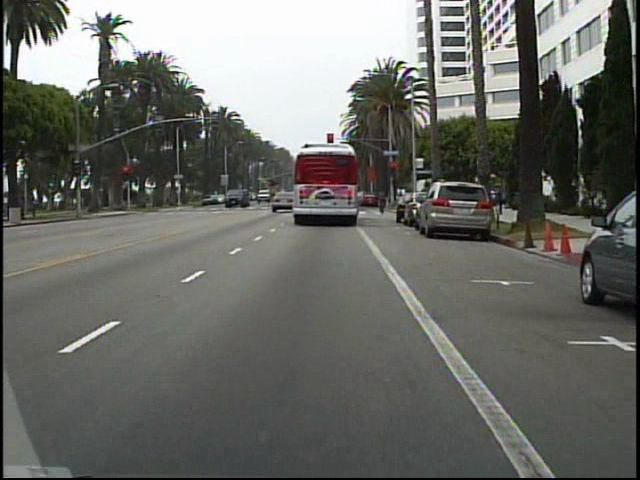person: (492, 184, 507, 218)
